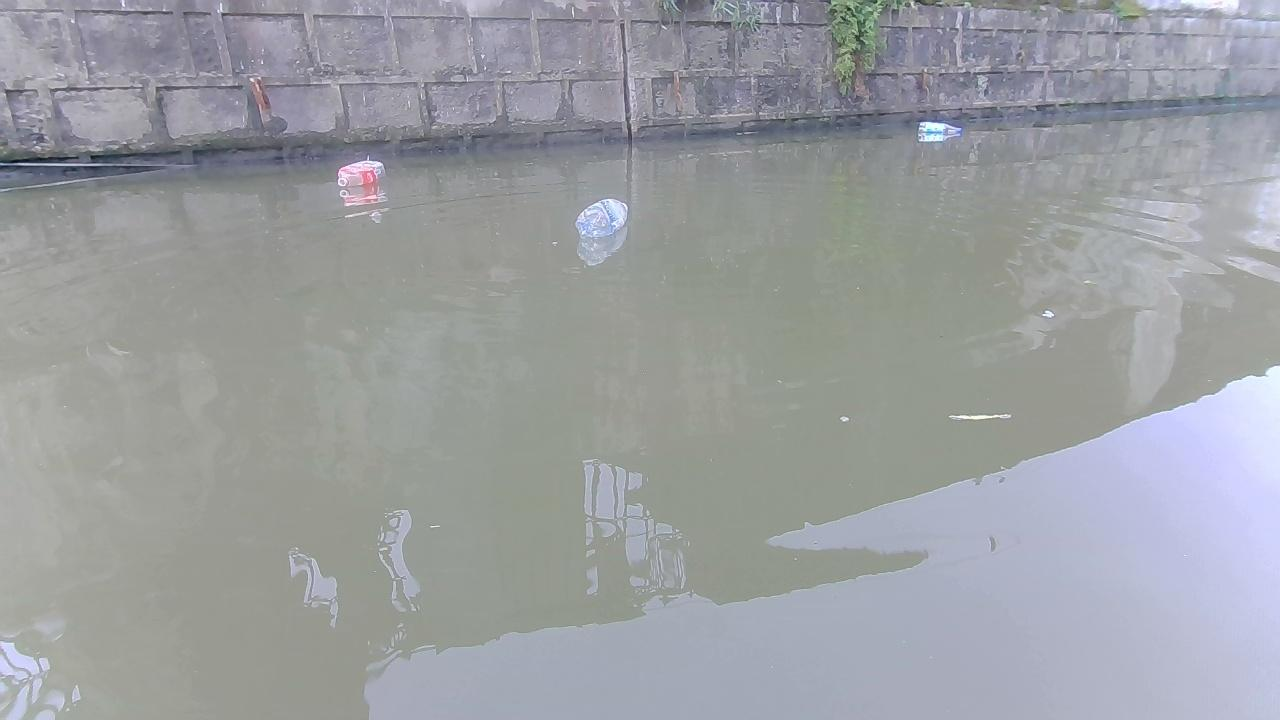bottle: (572, 195, 633, 234), (336, 158, 388, 187), (916, 118, 962, 137)
